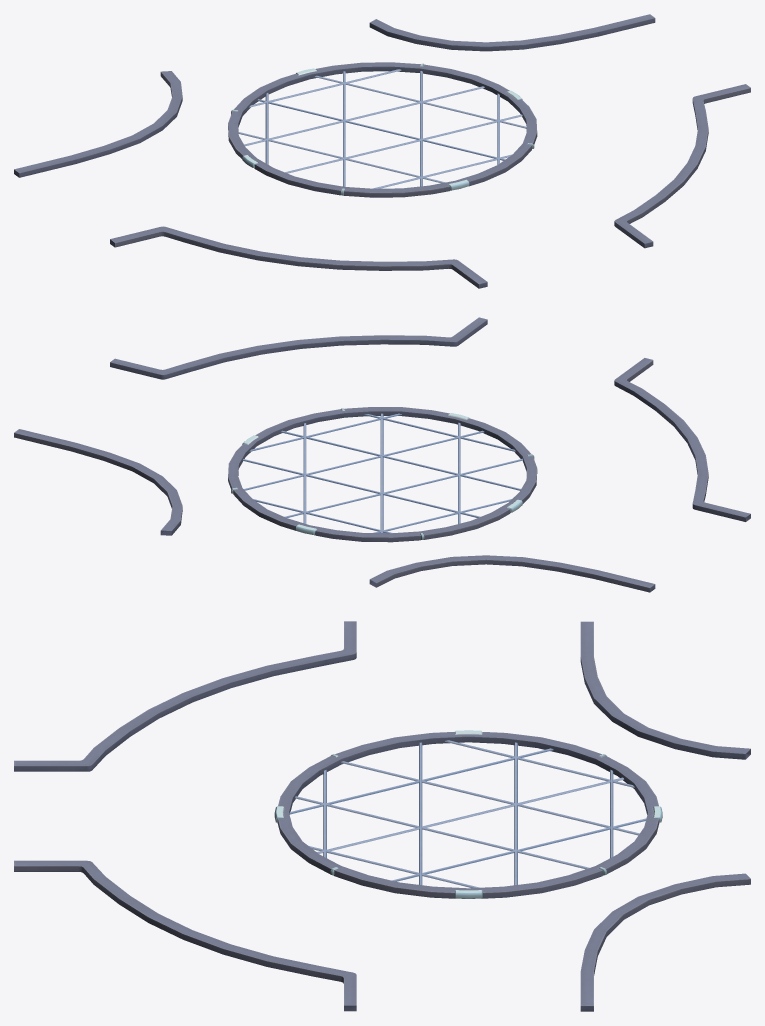
The model's file is mesh_1002_jxl_001a.FBX.
3 renders of one model, top to bottom at view 1: azimuth 30°, elevation 25°; view 2: azimuth 150°, elevation 25°; view 3: azimuth 270°, elevation 25°, orthographic. The views are drawn at different scales.
Parts seen in each view (by area): view 1: mesh_1002_jxl_001a; view 2: mesh_1002_jxl_001a; view 3: mesh_1002_jxl_001a.
Part boxes in pixels (left/top/right/bottom): mesh_1002_jxl_001a: left=14, top=14, right=750, bottom=288; mesh_1002_jxl_001a: left=14, top=317, right=750, bottom=592; mesh_1002_jxl_001a: left=14, top=621, right=750, bottom=1011.
Size of the model in its own units: 4069 by 38.95 by 3299.
